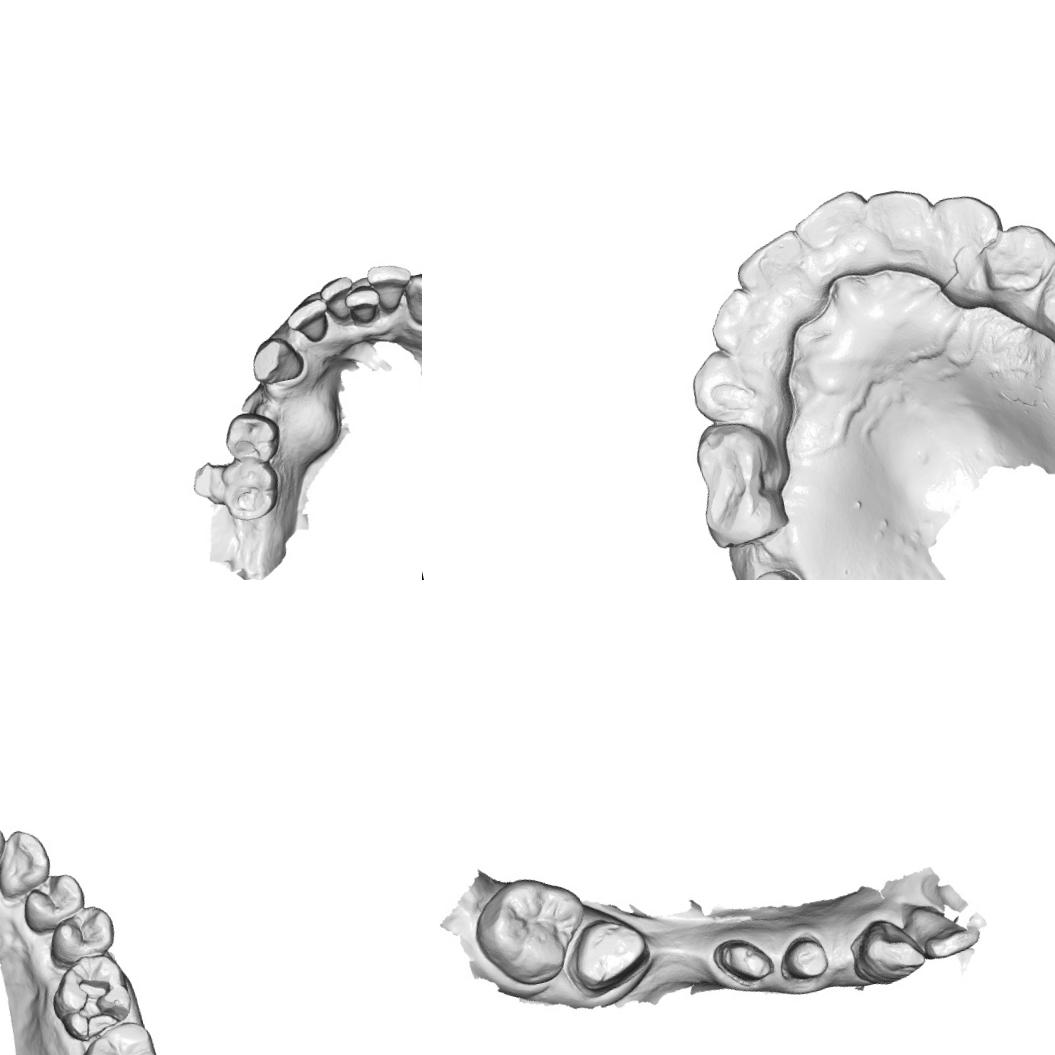canine: (681, 342, 765, 436), (842, 910, 930, 994), (926, 186, 1007, 254), (0, 822, 56, 903), (245, 330, 306, 391), (398, 264, 422, 328)
crown: (556, 907, 661, 1004), (704, 926, 780, 996), (772, 926, 838, 994)
implant: (744, 562, 812, 580)
incisor: (786, 186, 876, 260), (728, 225, 814, 302), (902, 892, 984, 967), (701, 284, 776, 365), (859, 181, 938, 246), (363, 256, 420, 317), (280, 294, 334, 348), (315, 273, 362, 325), (342, 282, 384, 328), (0, 809, 13, 882)
inlay: (57, 968, 128, 1043)
molar: (463, 864, 599, 996), (212, 450, 287, 528), (67, 1014, 167, 1055)
premolar: (684, 412, 782, 500), (692, 473, 792, 554), (974, 215, 1055, 301), (41, 900, 122, 970), (15, 868, 91, 937), (218, 404, 288, 470), (1030, 248, 1055, 338)
